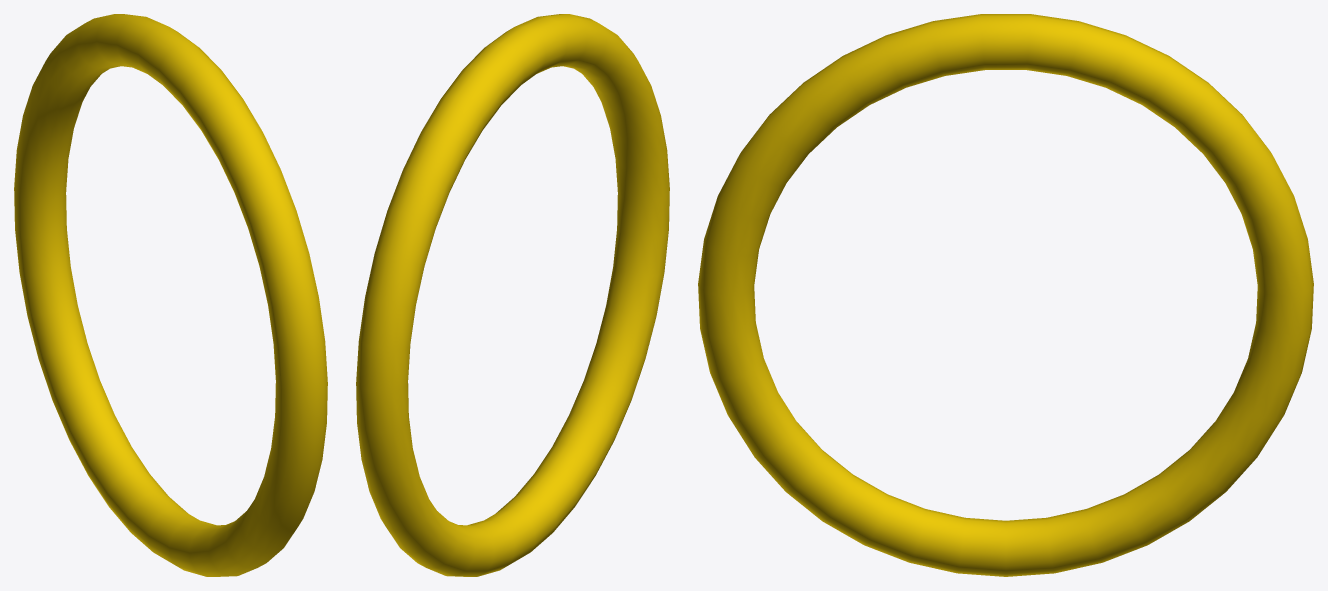
Rendered from objetivo.gltf.
The picture shows the model from 3 angles, left to right: view 1: azimuth 30°, elevation 25°; view 2: azimuth 150°, elevation 25°; view 3: azimuth 270°, elevation 25°; orthographic projection. The views are drawn at different scales.
Visible parts, largest first — view 1: Toróide.001; view 2: Toróide.001; view 3: Toróide.001.
Boxes of the visible parts, x1,y1,x2,y2 form: Toróide.001: (14, 14, 327, 576); Toróide.001: (356, 14, 669, 576); Toróide.001: (698, 14, 1313, 576).
Size of the model in its own units: 0.2947 by 3.31 by 3.31.
